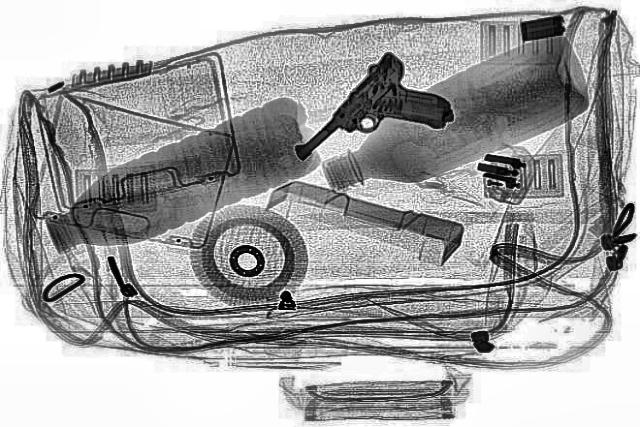Gun: (284, 51, 482, 187)
